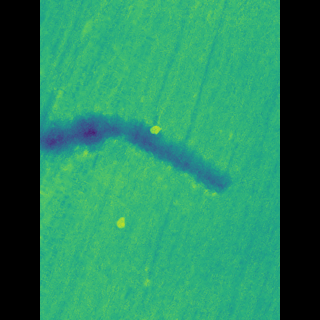Loch: (69, 82, 214, 203)
